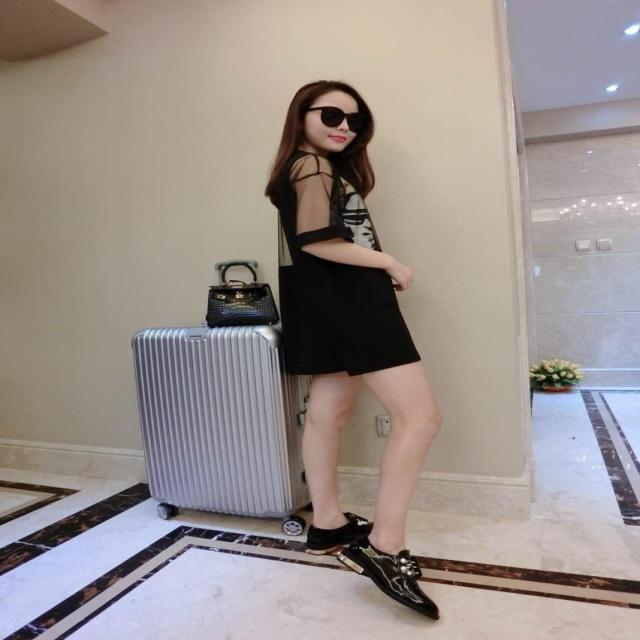short sleeve dress: (278, 159, 420, 375)
